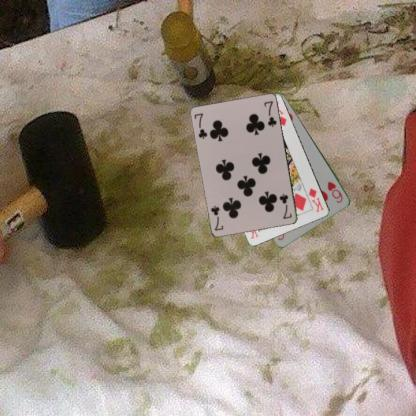6h: (325, 179, 344, 204)
7c: (192, 111, 209, 140), (277, 191, 293, 220)
Kd: (306, 185, 326, 214)
